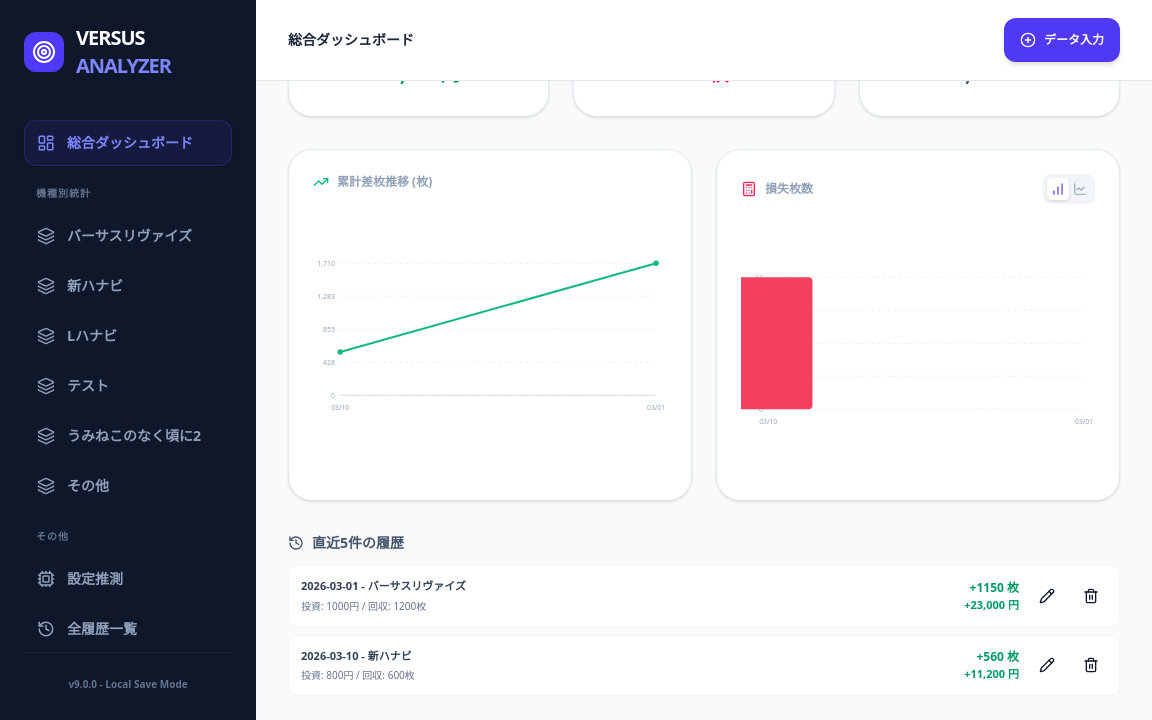
App › returns to the previous screen after saving from recent history edit
(page scrolled)
Click the button named "直近履歴を編集: 2026-03-01 バーサスリヴァイズ".
click(1047, 596)  # box [1031,580,1063,612]
(page scrolled)
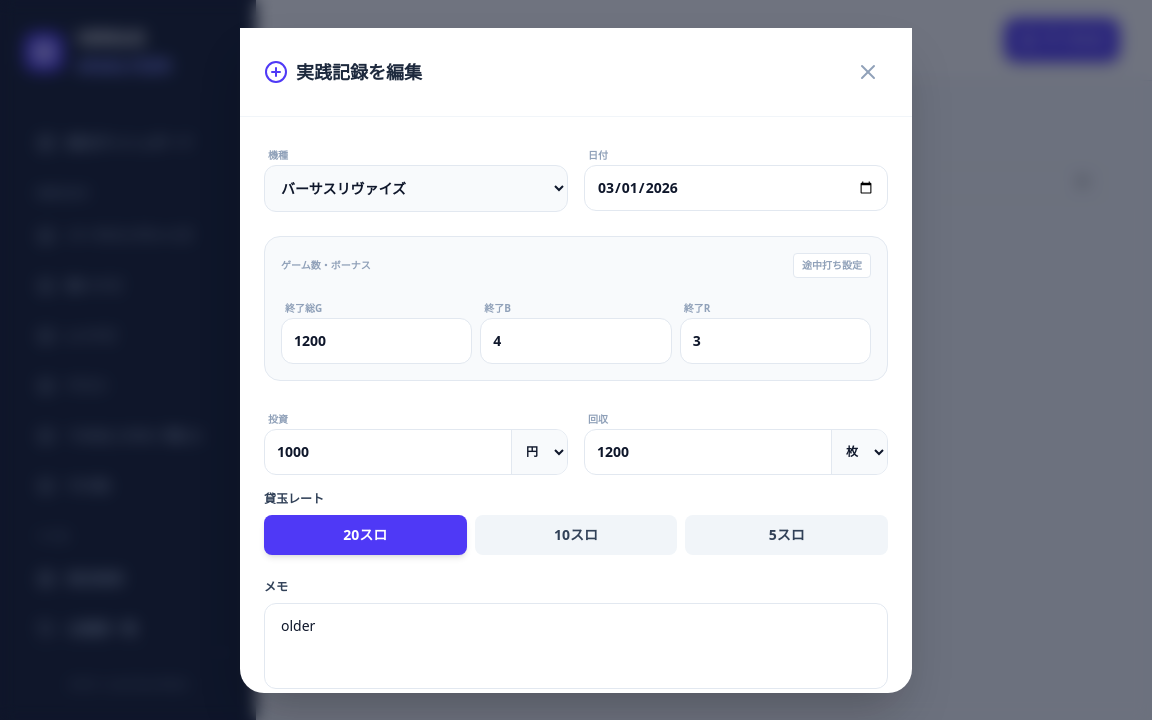
Replace the text in the text box with "edited-from-history" at coordinates (576, 646), box [264,602,888,688]
(page scrolled)
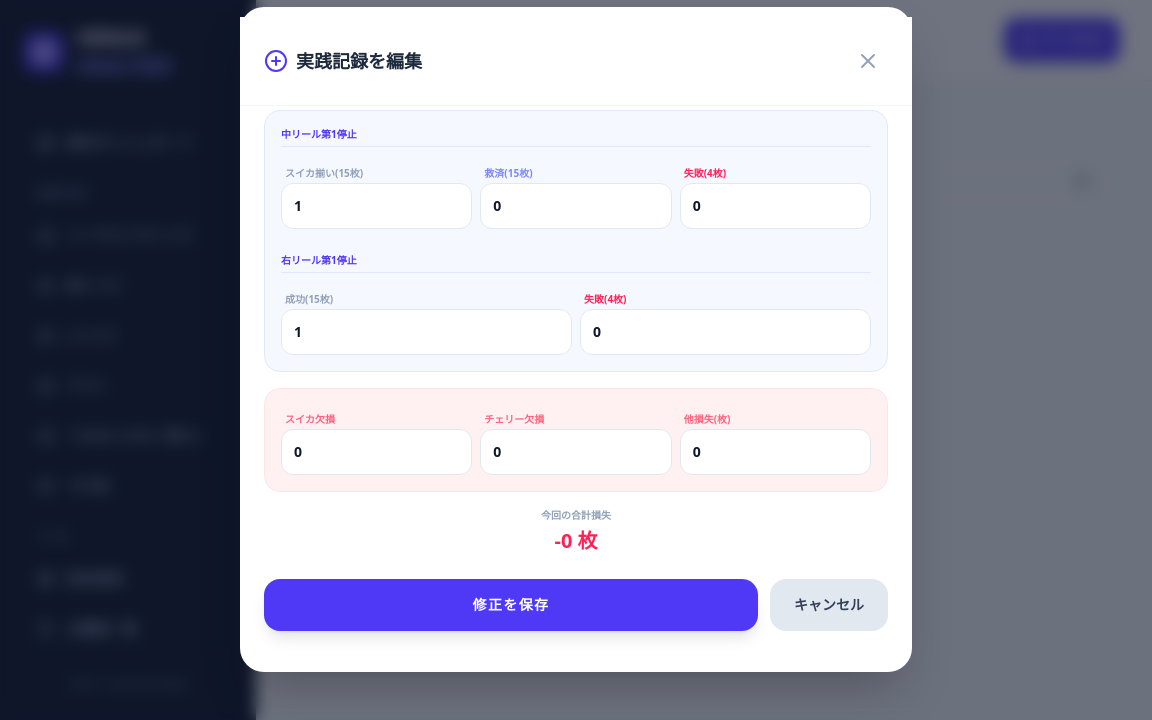
Click the button "修正を保存".
click(511, 605)  # box [264,579,758,631]
(page scrolled)
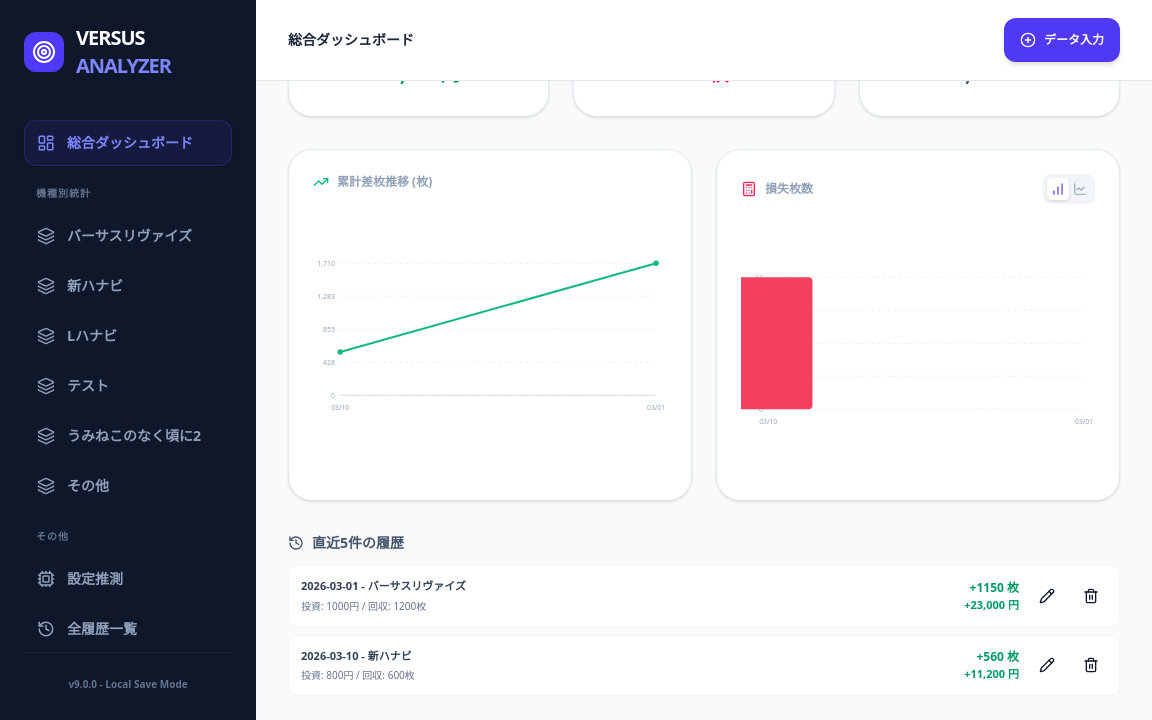
expect the text "全機種 累計収支" is shown: met, box [378,36,459,50]
expect the heading "直近5件の履歴" is shown: met, box [288,533,404,552]
